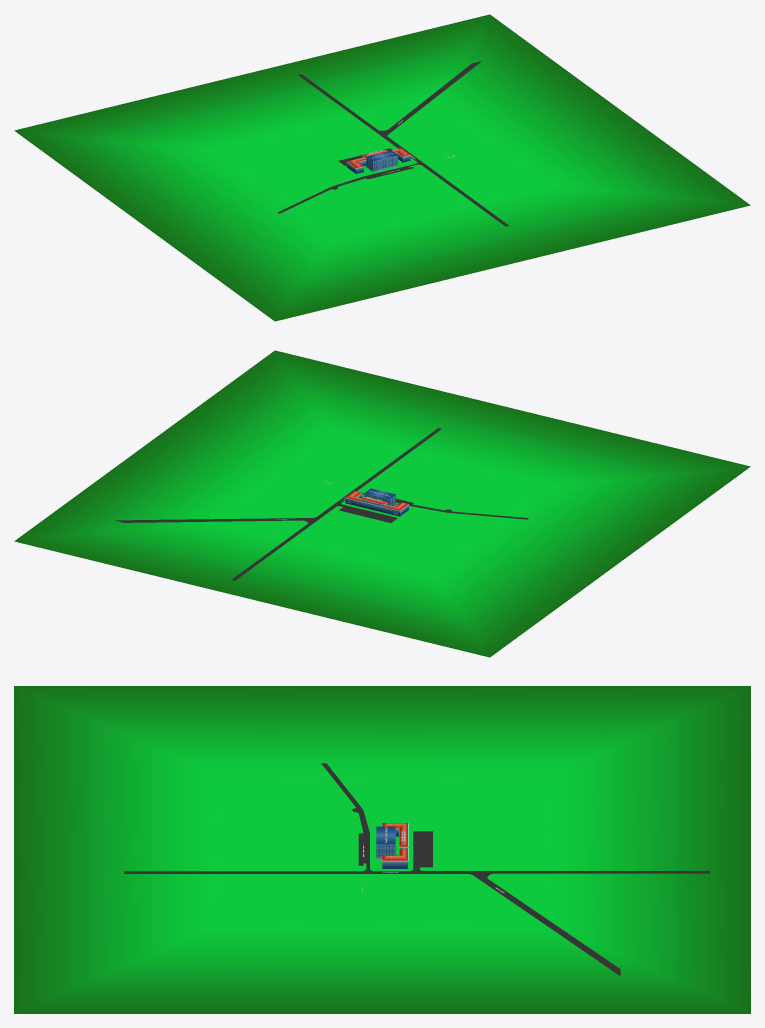
File: building7.gltf
3 renders of one model, top to bottom at view 1: azimuth 30°, elevation 25°; view 2: azimuth 150°, elevation 25°; view 3: azimuth 270°, elevation 25°, orthographic. The views are drawn at different scales.
Visible parts, largest first — view 1: building_002; view 2: building_002; view 3: building_002.
Part boxes in pixels (<box>): building_002: <box>14,14,750,321</box>; building_002: <box>14,350,750,657</box>; building_002: <box>14,686,750,1013</box>.
Size of the model in its own units: 302 by 6.69 by 287.
Materials: 4 (1 with a texture image).
